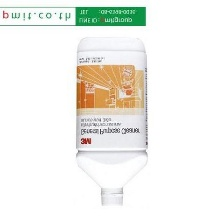cleaning_solution: (73, 33, 149, 208)
